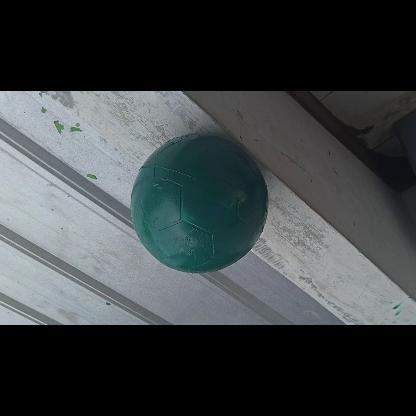green_ball: (126, 134, 268, 276)
